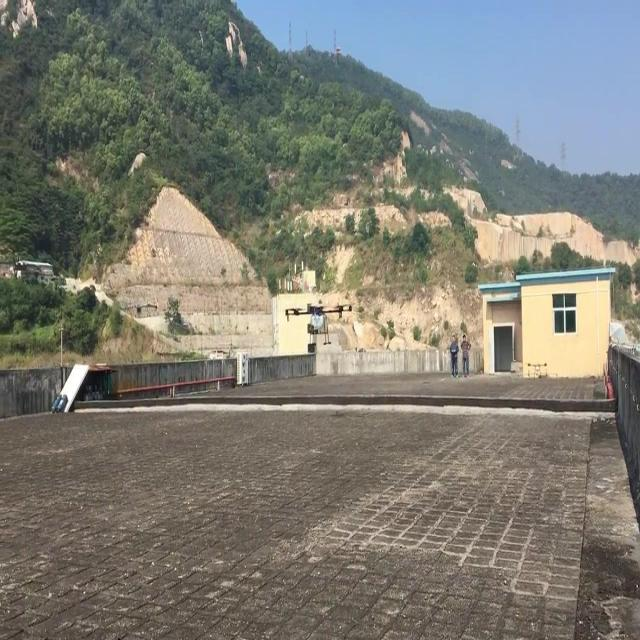drone: (282, 298, 353, 349)
